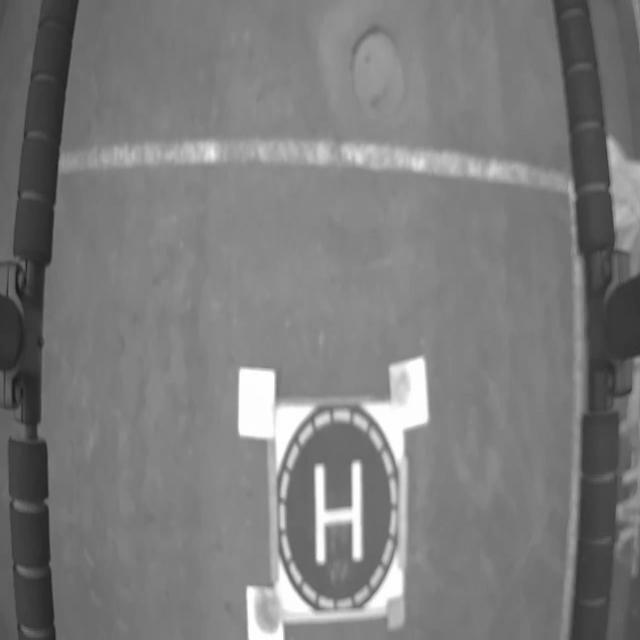Helipad: (313, 459, 363, 565)
